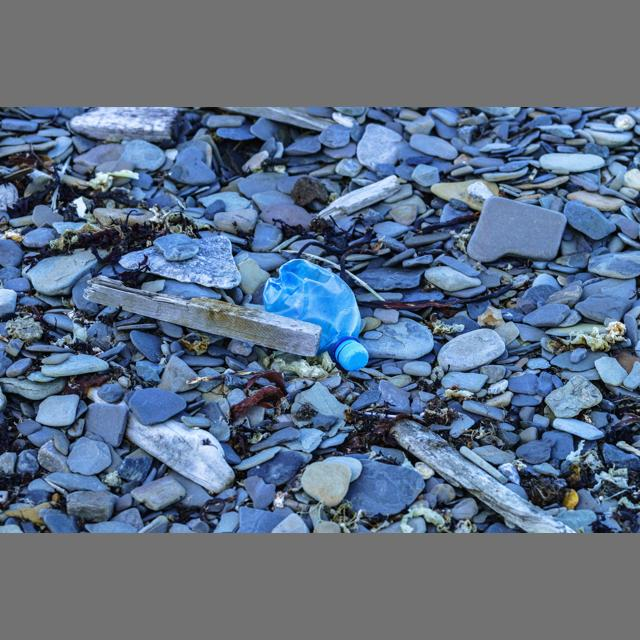litter: (262, 259, 369, 372), (283, 250, 387, 301), (338, 343, 369, 372)
